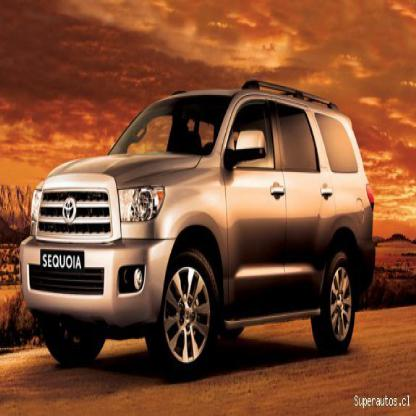Vehicle: (20, 80, 376, 382)
